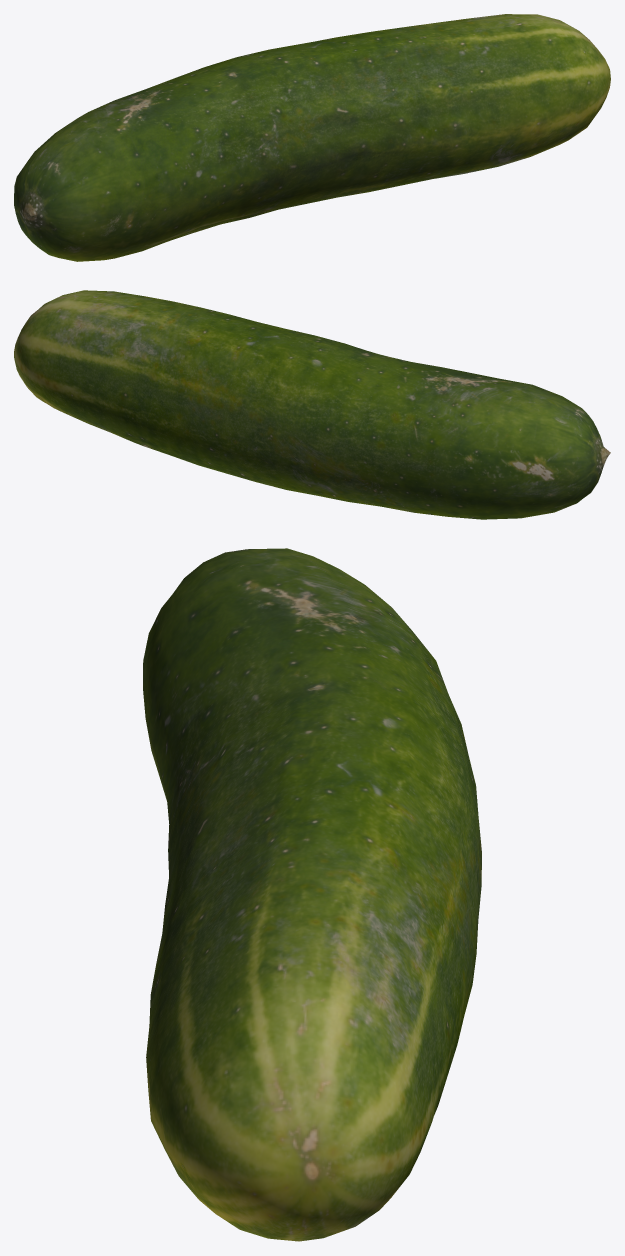
File: Cucumber.fbx
3 views of the same model, one above another, from view 1: azimuth 30°, elevation 25°; view 2: azimuth 150°, elevation 25°; view 3: azimuth 270°, elevation 25° (orthographic). The views are drawn at different scales.
Parts seen in each view (by area): view 1: Cucumber; view 2: Cucumber; view 3: Cucumber.
Part boxes in pixels (x1,y1,x2,y2): Cucumber: (14,14,610,261); Cucumber: (14,290,610,519); Cucumber: (143,548,481,1241).
Size of the model in its own units: 20.82 by 4.93 by 5.35.
